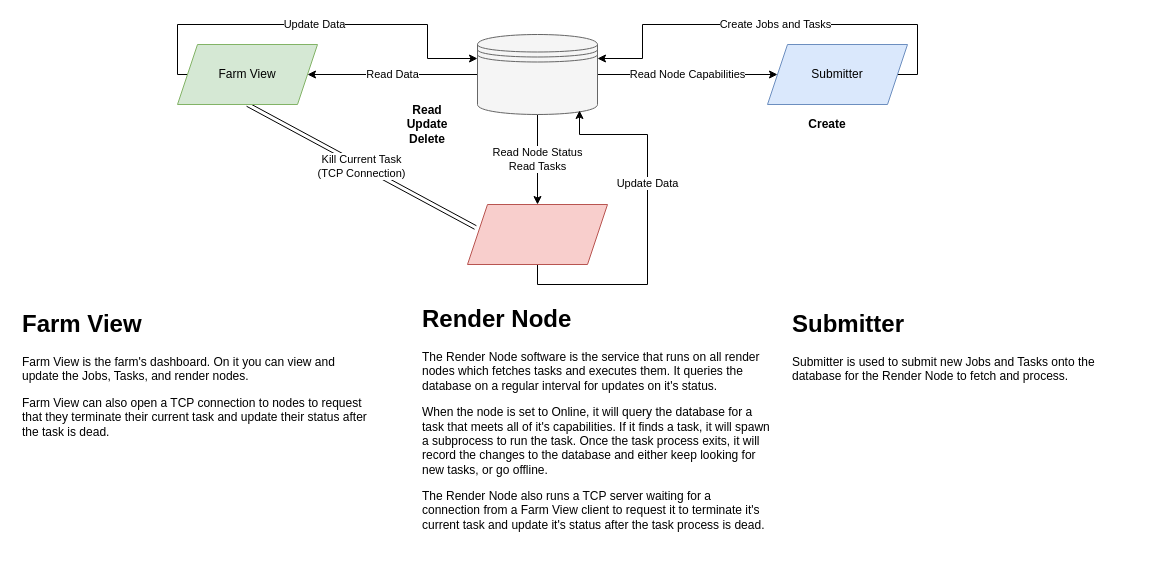
Some shapes in this 1160 by 572 pixel diagram are drawn without their labels. The centre of each missing label's shape, as x and y in pixels:
"MySQL Server" belongs at (x=537, y=74).
"Render Node" belongs at (x=537, y=234).
